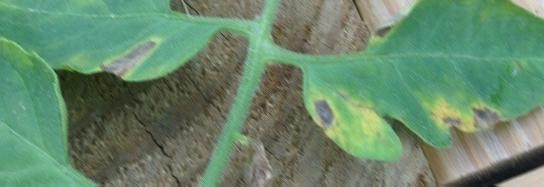Tomato leaf bacterial spot: (291, 0, 544, 170), (0, 0, 224, 99)
